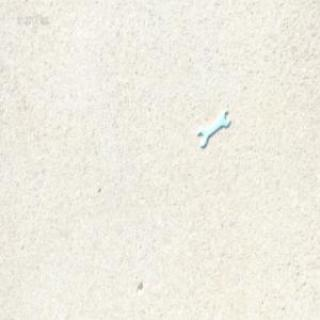Wrenchtrack_idkeyframe: (196, 108, 228, 146)
